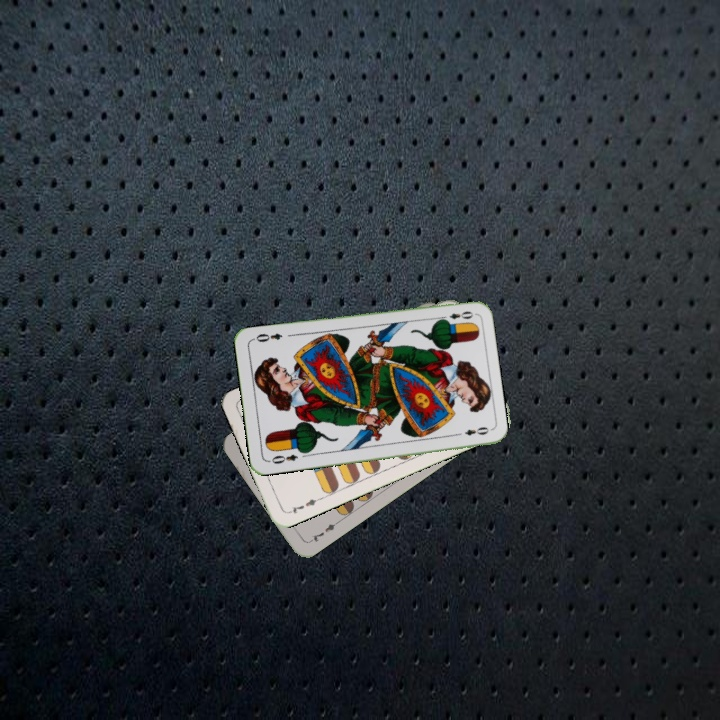E7: (305, 518, 341, 545), (284, 494, 323, 516)
EO: (436, 307, 476, 324), (265, 450, 300, 467)
